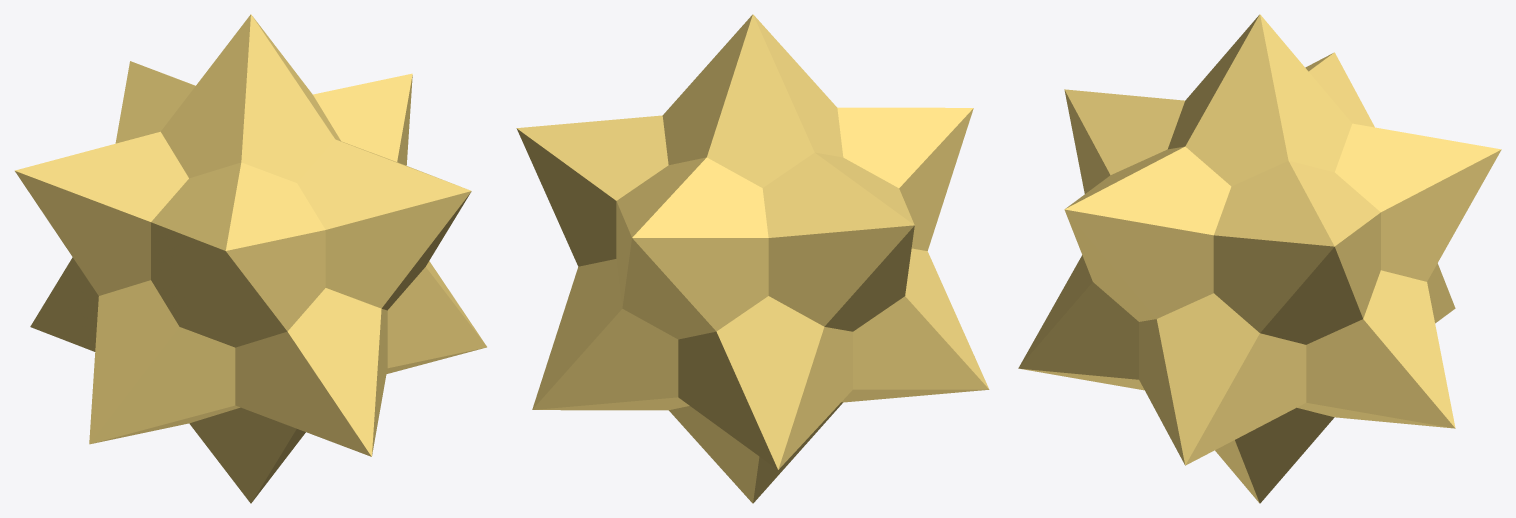
The model's file is Collectable.dae.
3 renders of one model, left to right at view 1: azimuth 30°, elevation 25°; view 2: azimuth 150°, elevation 25°; view 3: azimuth 270°, elevation 25°, orthographic.
Parts seen in each view (by area): view 1: Rhombic_face (×14); view 2: Rhombic_face (×15); view 3: Rhombic_face (×15).
Boxes of the visible parts, x1,y1,x2,y2 form: Rhombic_face (×14): [15, 14, 486, 503]; Rhombic_face (×15): [516, 14, 988, 503]; Rhombic_face (×15): [1018, 14, 1501, 503].
Size of the model in its own units: 20.42 by 21.47 by 24.
